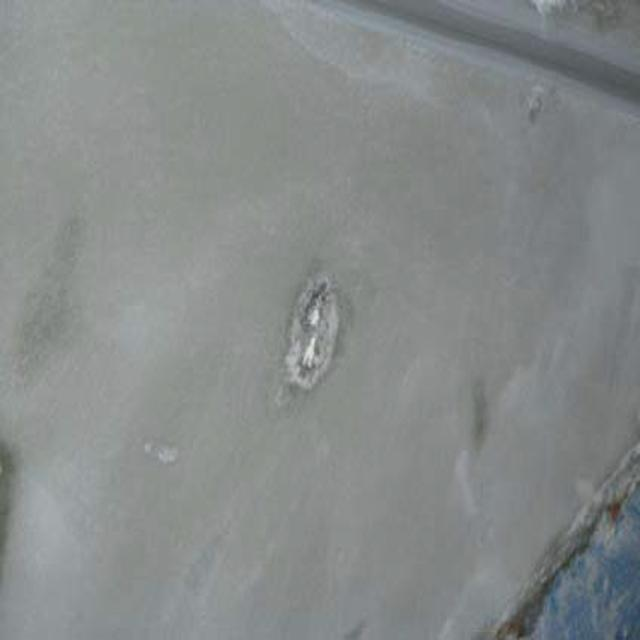freelime: (277, 276, 344, 418)
